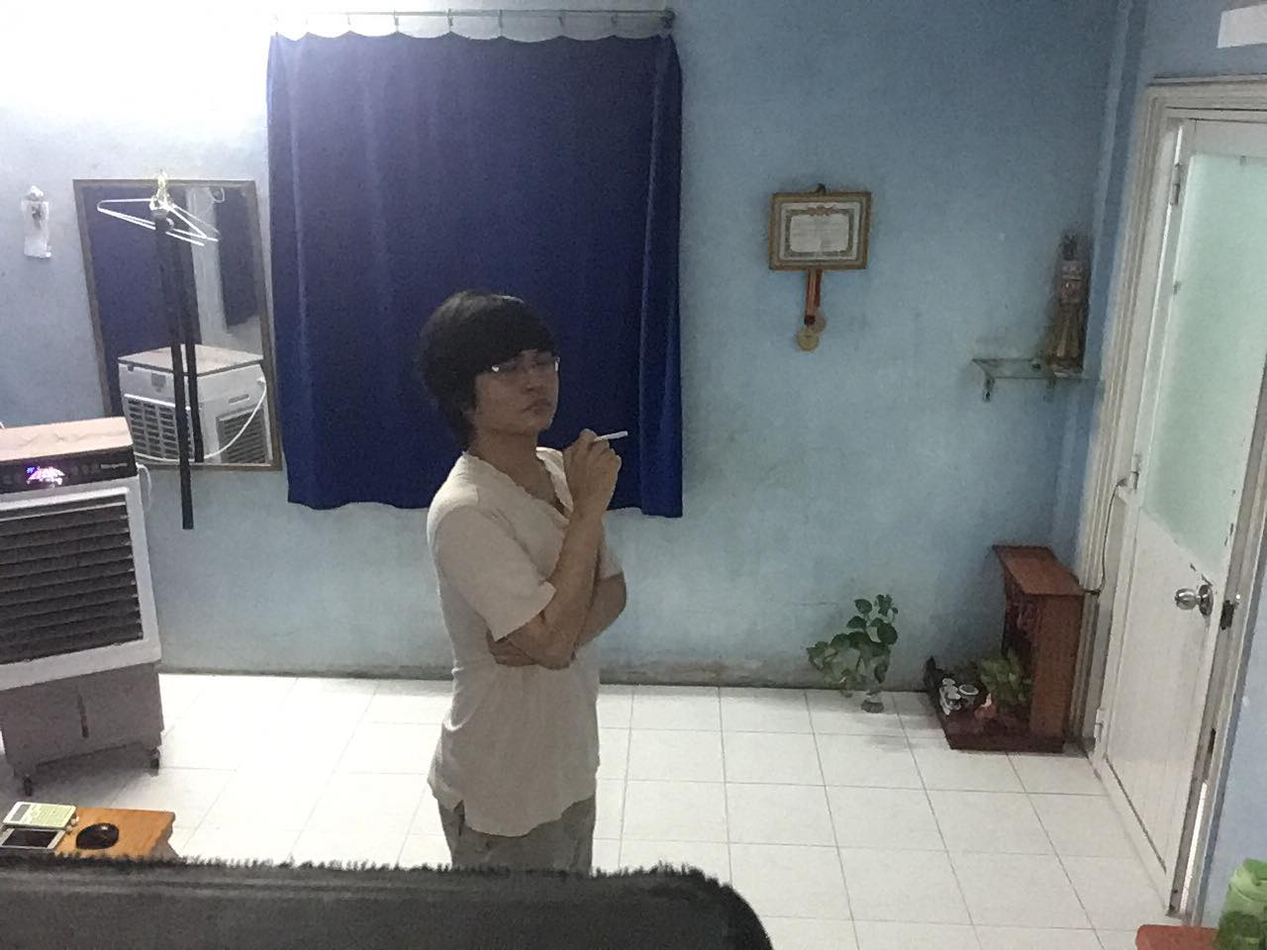cigarette: (592, 426, 634, 446)
person: (425, 287, 639, 875)
